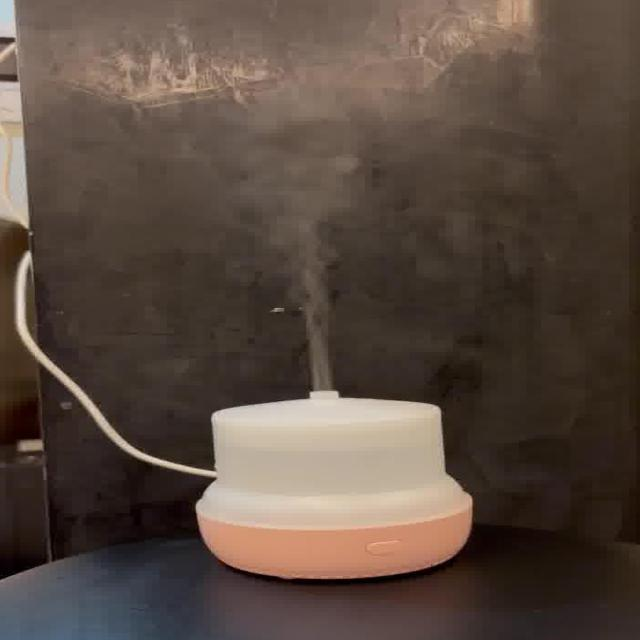fire: (256, 92, 363, 386)
